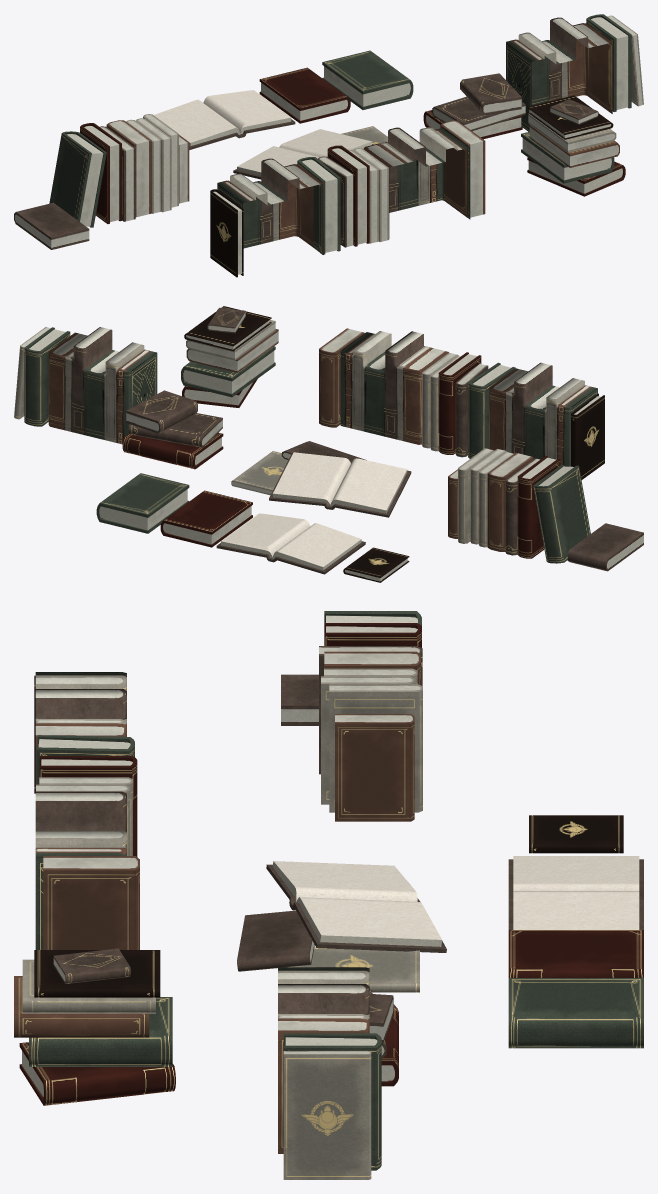
Rendered from buchset_artstation.fbx.
The picture shows the model from 3 angles, top to bottom: view 1: azimuth 30°, elevation 25°; view 2: azimuth 150°, elevation 25°; view 3: azimuth 270°, elevation 25°; orthographic projection. The views are drawn at different scales.
Parts seen in each view (by area): view 1: prop_books_03_inst_001, prop_books_01_inst_001, prop_books_02_inst_001, prop_books_05_inst_001, prop_book_04_inst_001, prop_book_03_inst_002, prop_book_02_inst_001, prop_books_04_inst_001; view 2: prop_books_03_inst_001, prop_books_02_inst_001, prop_books_01_inst_001, prop_books_04_inst_001, prop_books_05_inst_001, prop_book_04_inst_001, prop_book_03_inst_002, prop_book_02_inst_001, prop_book_03_inst_001; view 3: prop_books_03_inst_001, prop_books_01_inst_001, prop_books_02_inst_001, prop_books_05_inst_001, prop_books_04_inst_001, prop_book_04_inst_001, prop_book_03_inst_002, prop_book_02_inst_001, prop_book_03_inst_001.
Boxes of the visible parts, left/top/right/bottom form: prop_books_03_inst_001: left=210, top=120, right=485, bottom=277; prop_books_01_inst_001: left=14, top=114, right=189, bottom=249; prop_books_02_inst_001: left=423, top=14, right=643, bottom=139; prop_books_05_inst_001: left=521, top=95, right=625, bottom=196; prop_book_04_inst_001: left=154, top=90, right=295, bottom=149; prop_book_03_inst_002: left=322, top=50, right=413, bottom=109; prop_book_02_inst_001: left=259, top=67, right=350, bottom=123; prop_books_04_inst_001: left=233, top=126, right=387, bottom=179; prop_books_03_inst_001: left=319, top=328, right=604, bottom=479; prop_books_02_inst_001: left=14, top=327, right=223, bottom=469; prop_books_01_inst_001: left=448, top=448, right=643, bottom=571; prop_books_04_inst_001: left=231, top=441, right=411, bottom=517; prop_books_05_inst_001: left=181, top=306, right=278, bottom=407; prop_book_04_inst_001: left=216, top=513, right=365, bottom=574; prop_book_03_inst_002: left=96, top=473, right=189, bottom=533; prop_book_02_inst_001: left=160, top=490, right=252, bottom=547; prop_book_03_inst_001: left=343, top=547, right=409, bottom=582; prop_books_03_inst_001: left=34, top=672, right=139, bottom=949; prop_books_01_inst_001: left=281, top=611, right=422, bottom=821; prop_books_02_inst_001: left=278, top=967, right=398, bottom=1179; prop_books_05_inst_001: left=14, top=948, right=175, bottom=1105; prop_books_04_inst_001: left=237, top=861, right=446, bottom=992; prop_book_04_inst_001: left=508, top=856, right=643, bottom=929; prop_book_03_inst_002: left=508, top=978, right=643, bottom=1048; prop_book_02_inst_001: left=508, top=930, right=643, bottom=977; prop_book_03_inst_001: left=529, top=815, right=623, bottom=853.
Bounding box in the file's own units: 3.55 × 0.4888 × 1.95.
